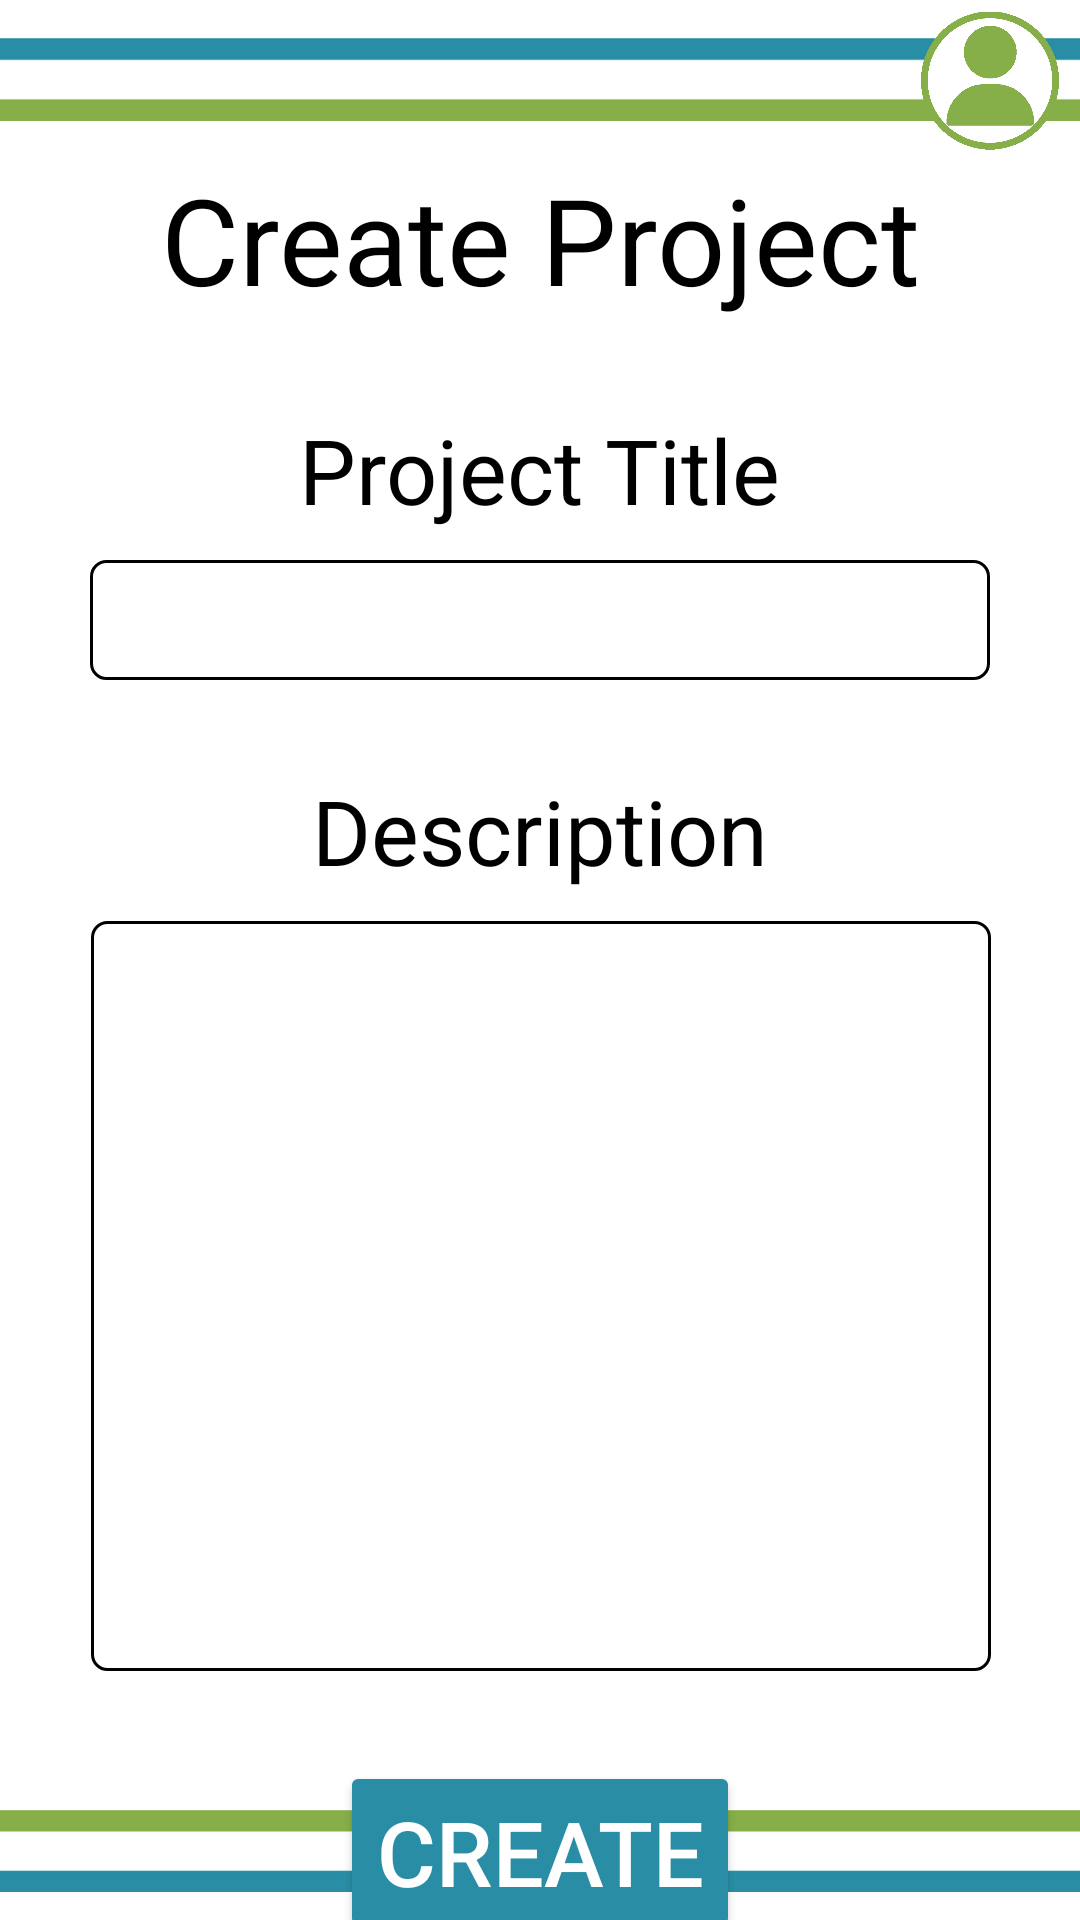

Where to tap for icons on this 1080 × 1920 app screen, as (x,y):
user: (990,81)
